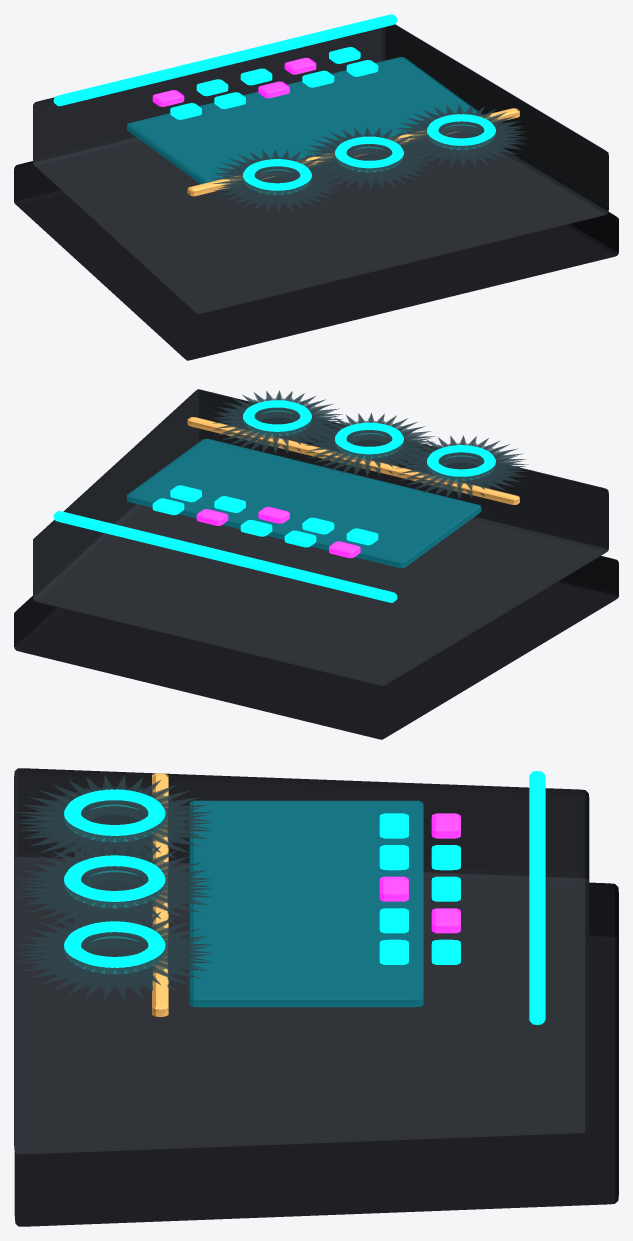
File: center_console.glb
3 views of the same model, one above another, from view 1: azimuth 30°, elevation 25°; view 2: azimuth 150°, elevation 25°; view 3: azimuth 270°, elevation 25° (orthographic). The views are drawn at different scales.
Parts seen in each view (by area): view 1: center_console_hero_shell, center_console_lower_plinth, center_console_main_screen, center_console_recessed_dial_0, center_console_recessed_dial_2, center_console_front_cyan_trace, center_console_recessed_dial_1, center_console_dial_cyan_ring_2, center_console_dial_cyan_ring_0, center_console_dial_cyan_ring_1, center_console_warm_upper_trim; view 2: center_console_hero_shell, center_console_lower_plinth, center_console_main_screen, center_console_front_cyan_trace, center_console_recessed_dial_0, center_console_recessed_dial_2, center_console_recessed_dial_1, center_console_warm_upper_trim, center_console_dial_cyan_ring_0, center_console_dial_cyan_ring_2, center_console_dial_cyan_ring_1; view 3: center_console_hero_shell, center_console_lower_plinth, center_console_main_screen, center_console_recessed_dial_2, center_console_recessed_dial_0, center_console_recessed_dial_1, center_console_front_cyan_trace, center_console_dial_cyan_ring_0, center_console_dial_cyan_ring_1, center_console_dial_cyan_ring_2, center_console_warm_upper_trim, center_console_key_0_0 (+9 smaller).
Part boxes in pixels (x1,y1,x2,y2): center_console_hero_shell: (33, 24, 608, 314); center_console_lower_plinth: (14, 161, 618, 360); center_console_main_screen: (127, 57, 480, 183); center_console_recessed_dial_0: (210, 149, 343, 212); center_console_recessed_dial_2: (395, 104, 527, 167); center_console_front_cyan_trace: (53, 14, 397, 106); center_console_recessed_dial_1: (303, 127, 436, 189); center_console_dial_cyan_ring_2: (427, 114, 495, 149); center_console_dial_cyan_ring_0: (243, 159, 311, 194); center_console_dial_cyan_ring_1: (335, 136, 403, 172); center_console_warm_upper_trim: (187, 108, 519, 196); center_console_hero_shell: (33, 389, 608, 685); center_console_lower_plinth: (14, 556, 618, 739); center_console_main_screen: (127, 438, 481, 568); center_console_front_cyan_trace: (53, 511, 397, 602); center_console_recessed_dial_0: (395, 435, 528, 498); center_console_recessed_dial_2: (211, 390, 343, 453); center_console_recessed_dial_1: (302, 413, 435, 476); center_console_warm_upper_trim: (187, 417, 519, 504); center_console_dial_cyan_ring_0: (427, 445, 495, 480); center_console_dial_cyan_ring_2: (243, 400, 311, 435); center_console_dial_cyan_ring_1: (335, 422, 403, 458); center_console_hero_shell: (14, 768, 589, 1154); center_console_lower_plinth: (14, 882, 618, 1226); center_console_main_screen: (189, 800, 423, 1007); center_console_recessed_dial_2: (17, 908, 212, 1000); center_console_recessed_dial_0: (16, 775, 213, 862); center_console_recessed_dial_1: (16, 841, 212, 928); center_console_front_cyan_trace: (529, 771, 545, 1024); center_console_dial_cyan_ring_0: (64, 789, 165, 841); center_console_dial_cyan_ring_1: (64, 855, 165, 907); center_console_dial_cyan_ring_2: (64, 921, 165, 973); center_console_warm_upper_trim: (152, 773, 168, 1016); center_console_key_0_0: (431, 813, 460, 838).
Size of the model in its own units: 2.26 by 0.6764 by 1.86.
